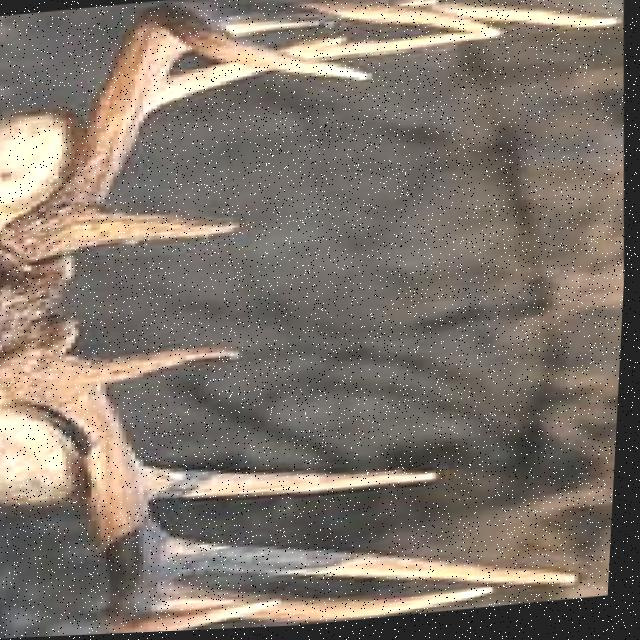L-F: (0, 4, 378, 269)
L-G1: (75, 209, 250, 252)
R-F: (0, 323, 291, 635)
R-G1: (84, 349, 248, 388)
R-G2: (145, 468, 444, 501)
R-G3: (163, 538, 592, 592)
